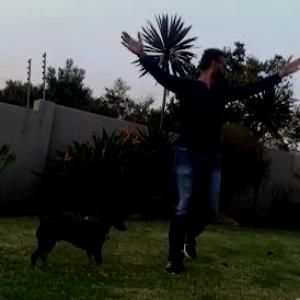takeoff: (114, 25, 299, 277)
